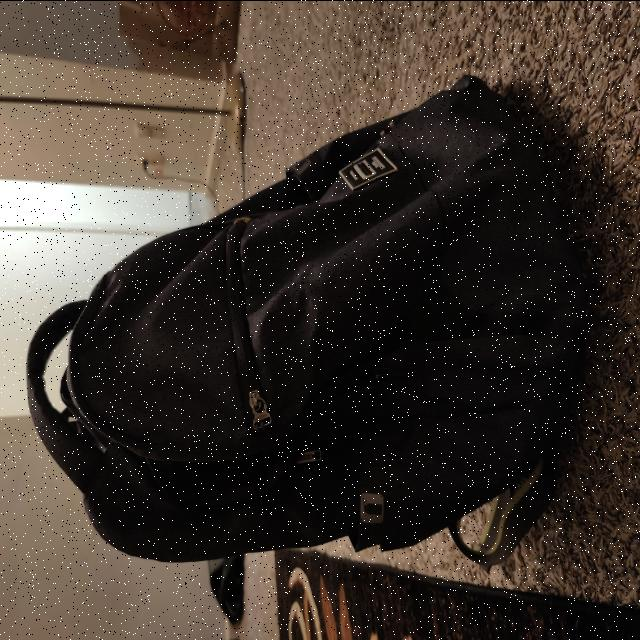bag: (28, 84, 558, 565)
